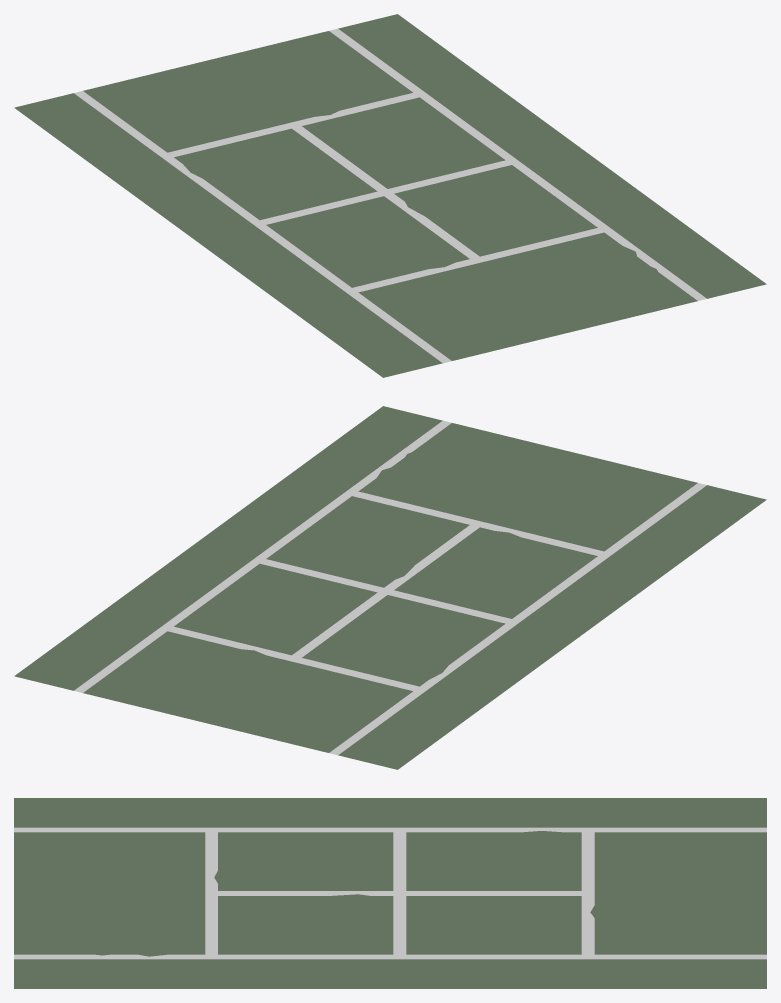
File: sc-tennis.glb
The picture shows the model from 3 angles, top to bottom: view 1: azimuth 30°, elevation 25°; view 2: azimuth 150°, elevation 25°; view 3: azimuth 270°, elevation 25°; orthographic projection.
Visible parts, largest first — view 1: SM_Env_Court_Tennis_01; view 2: SM_Env_Court_Tennis_01; view 3: SM_Env_Court_Tennis_01.
Part boxes in pixels (bbox=[...]): SM_Env_Court_Tennis_01: bbox=[14, 14, 766, 377]; SM_Env_Court_Tennis_01: bbox=[14, 406, 766, 769]; SM_Env_Court_Tennis_01: bbox=[14, 798, 766, 988].
Size of the model in its own units: 19.2 by 0 by 32.
Materials: 1 (1 with a texture image).
